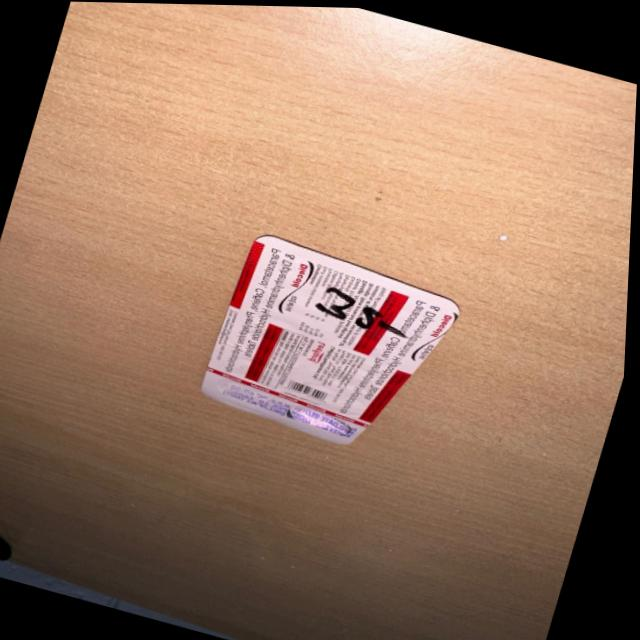medicine: (189, 223, 474, 459)
